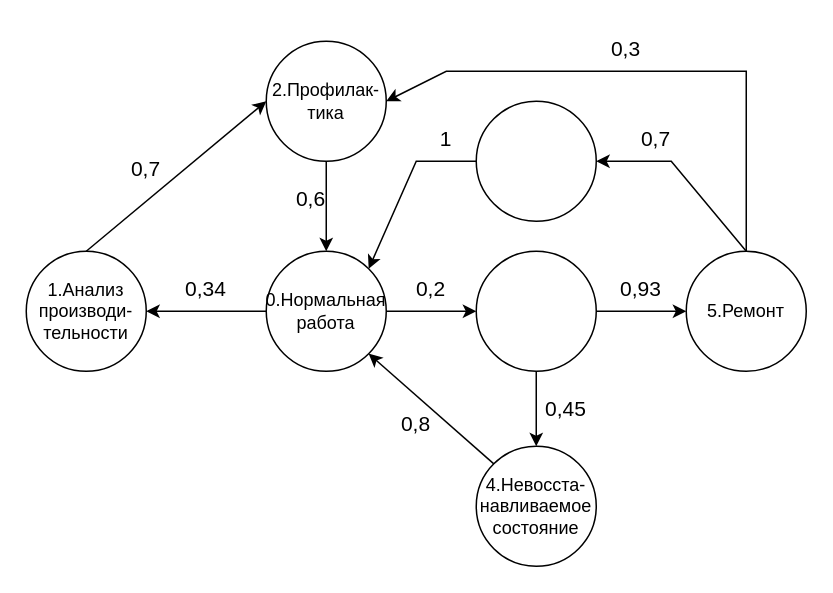
The diagram is 833 pixels wide and 593 high, and some of its shapes have lost their labels. The centre of each missing label's shape, as x and y in pixels:
"3.Анализ отказа" goes at (535,310).
"6.Восстанов-лена" goes at (535,160).
